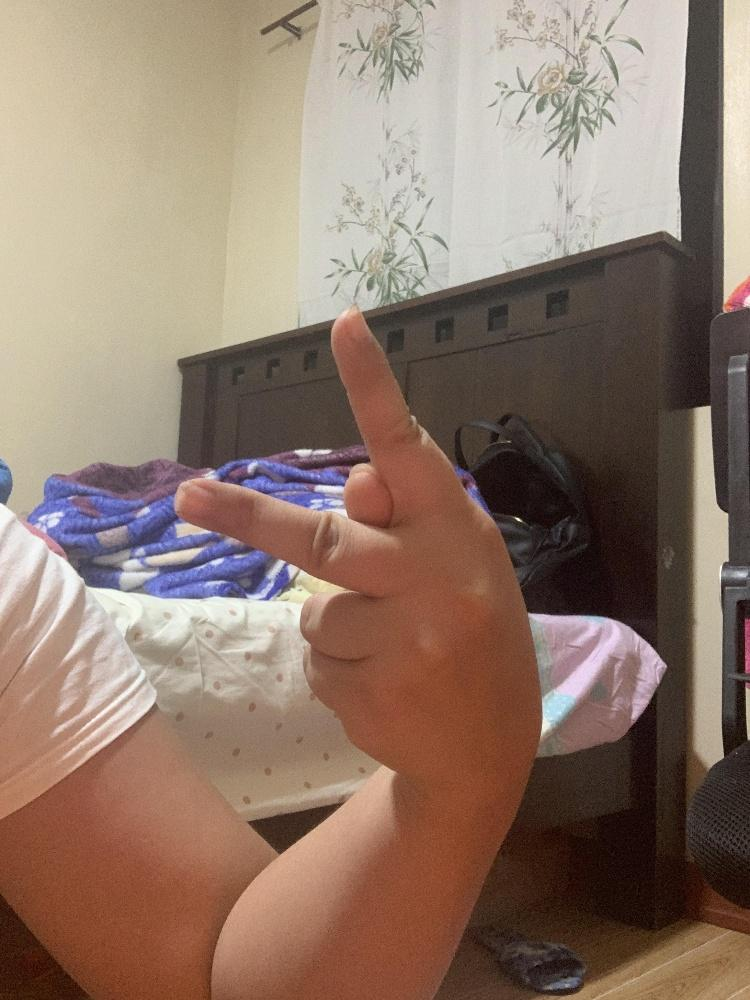k: (174, 303, 544, 770)
